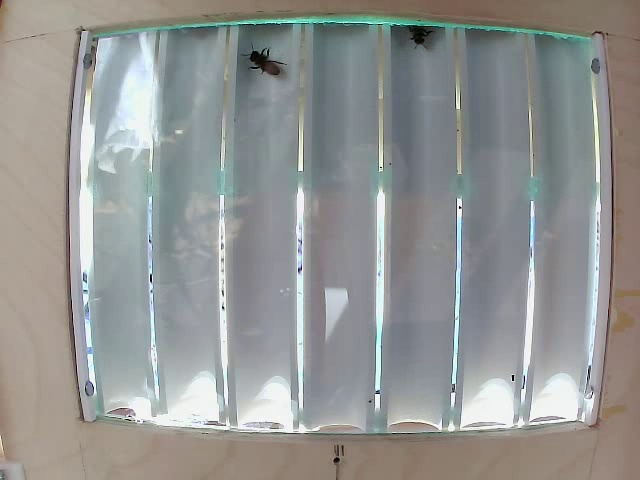bee: (253, 52, 277, 78)
